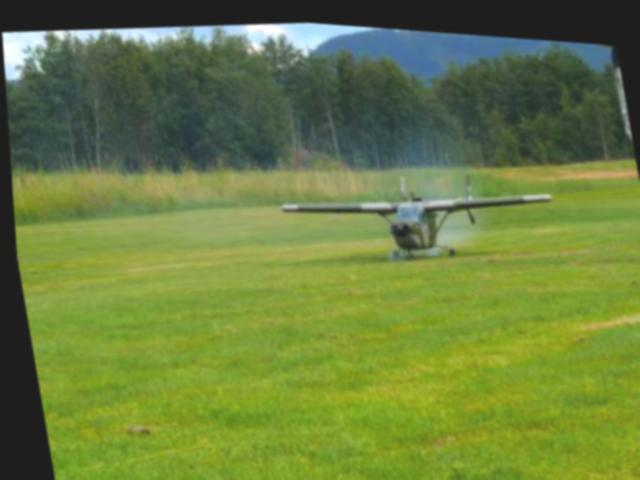uav: (272, 143, 564, 278)
